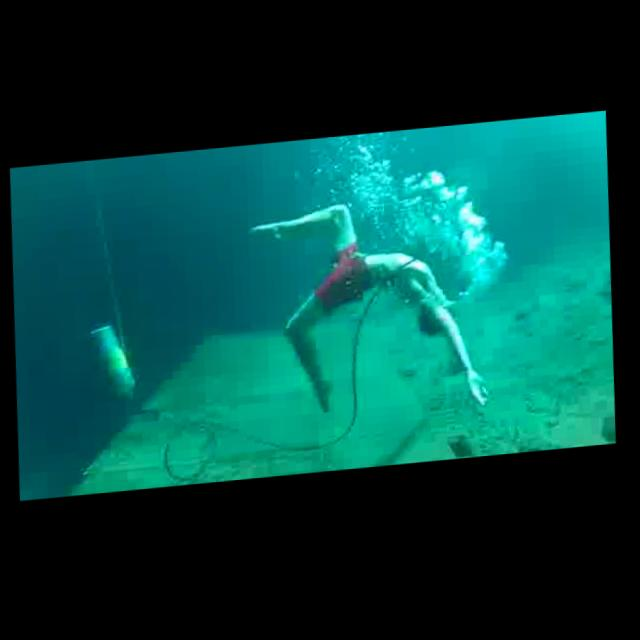human: (241, 186, 500, 434)
